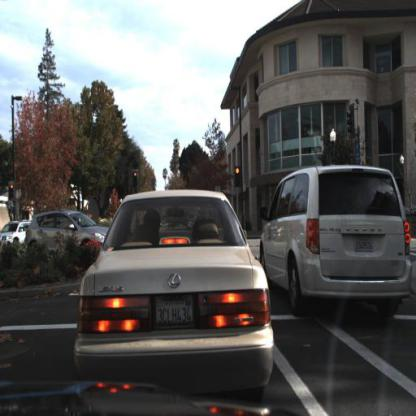car: (75, 186, 271, 386), (259, 161, 412, 322), (23, 209, 111, 259), (1, 221, 31, 249), (1, 219, 26, 249)
trafficLight-Red: (235, 166, 242, 189), (9, 182, 16, 201), (132, 170, 139, 189)
